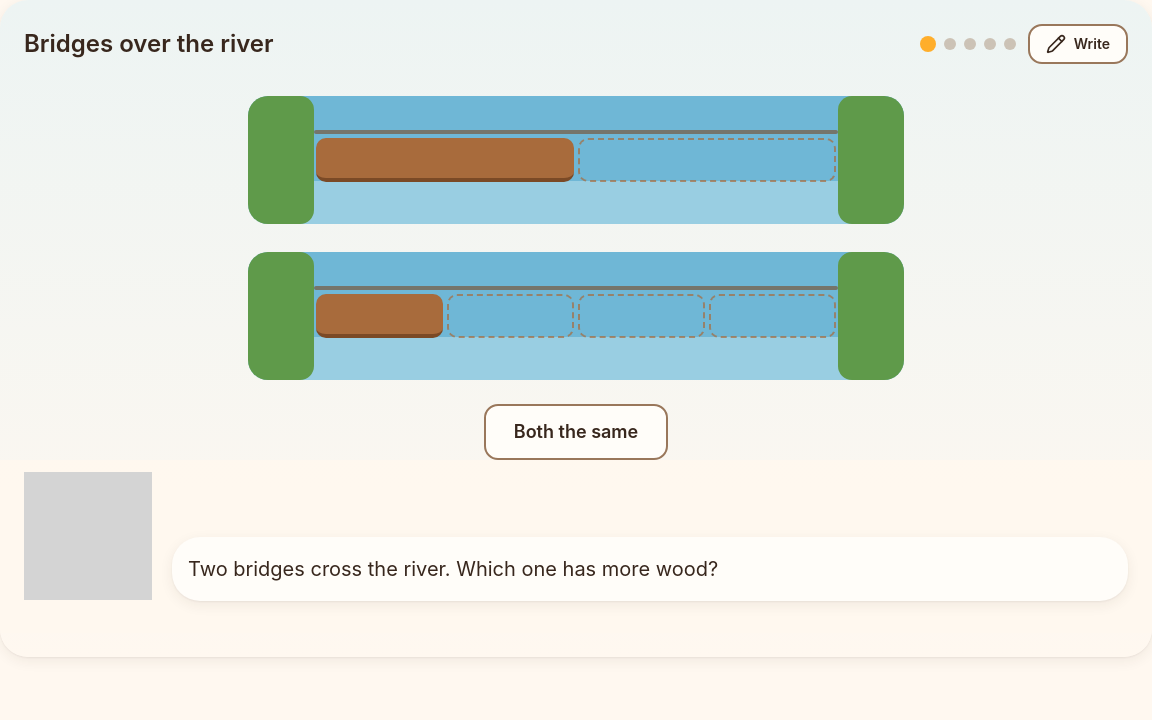
LessonPlayer › keeps the scene and says so calmly when the request fails
Click the button named "upper bridge" at (576, 160), box [240, 88, 912, 232]
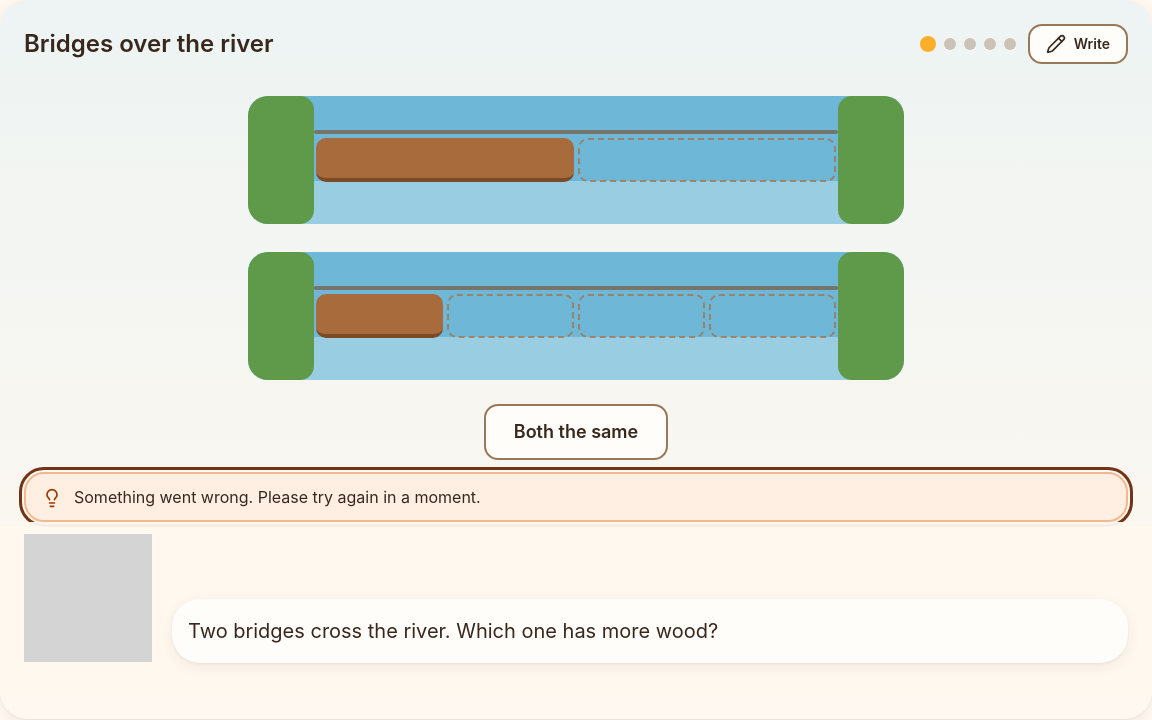
Expected: the text "Two bridges cross the river. Which one has more wood?" is shown, [172, 599, 1128, 663]
Now the message reads "Something went wrong. Please try again in a moment.", box [74, 487, 481, 507]
